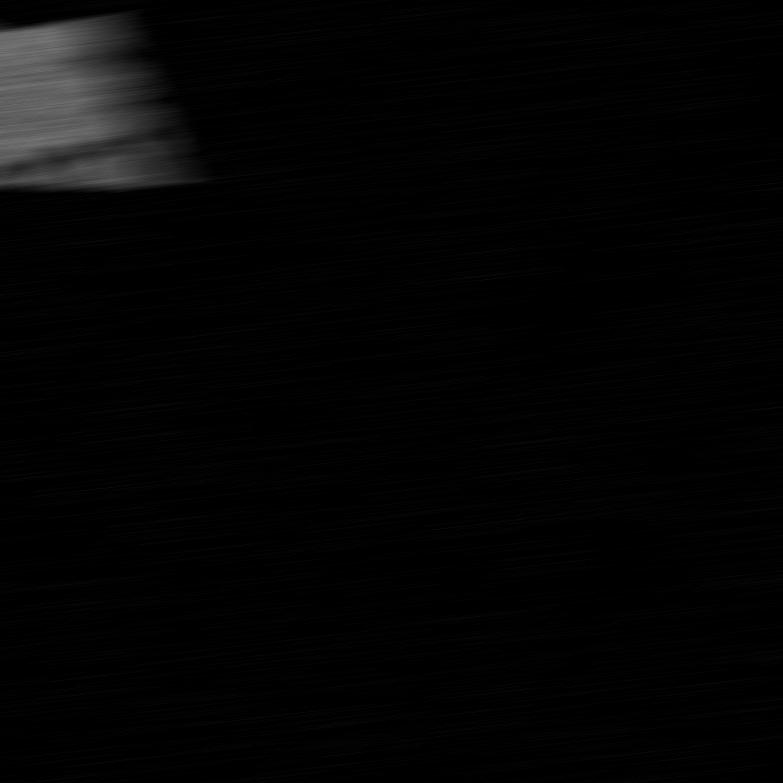Airbag: (0, 1, 325, 186)
